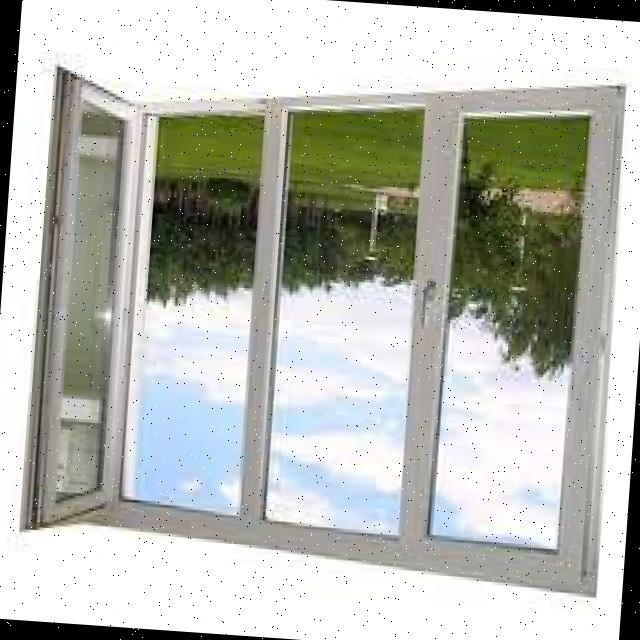Window: (21, 43, 634, 596)
